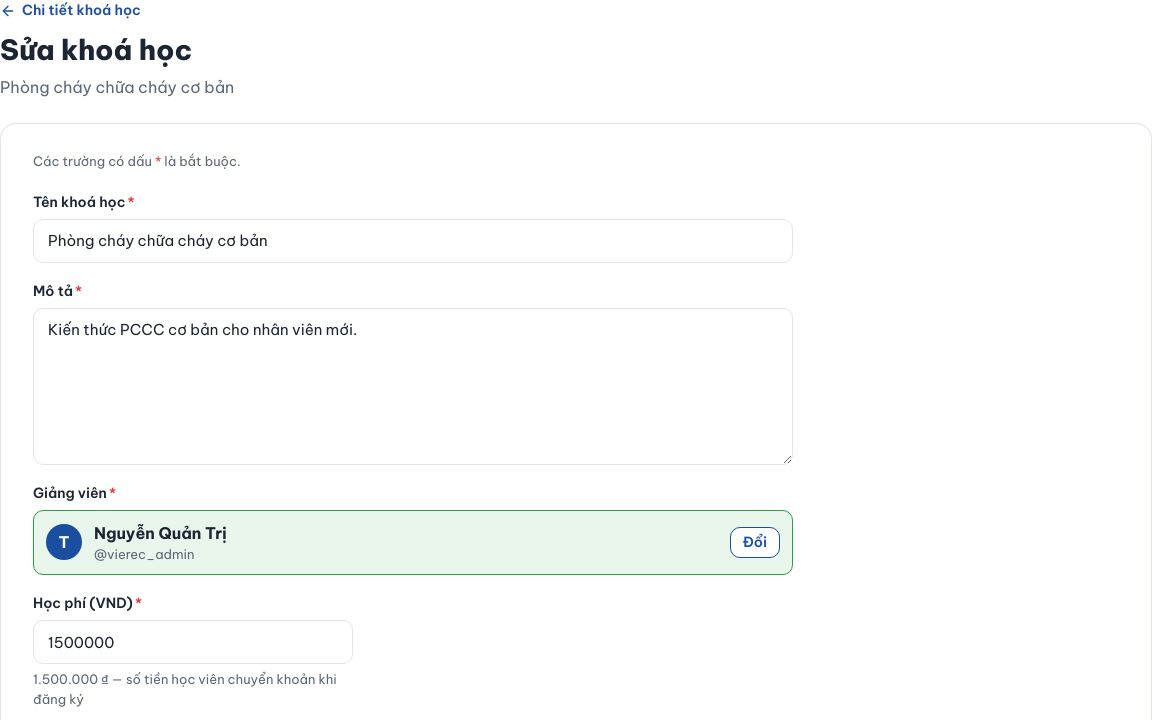
Scenario: CourseEditPage › requires an instructor again after removing the current one
The width and height of the screenshot is (1152, 720).
What coordinates should you click on to do the following:
click the button with aria-label "Đổi giảng viên"
I would click on:
 (755, 542)
Its box is [730,527,780,558].
(page scrolled)
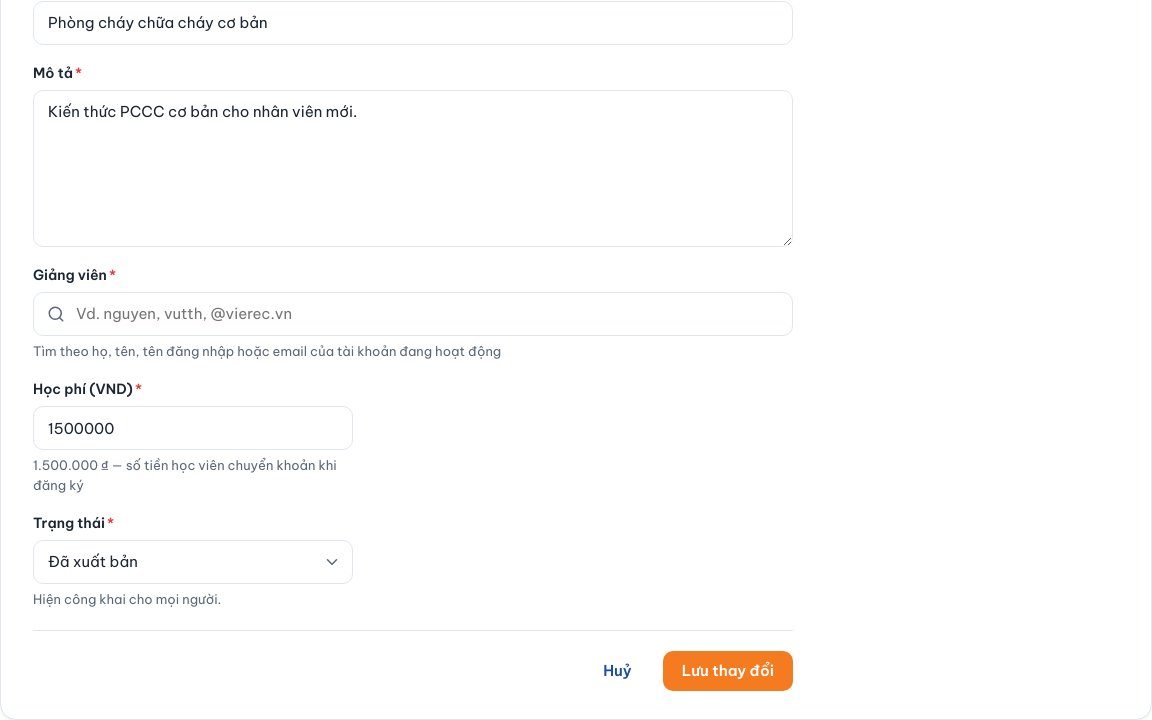
What coordinates should you click on to do the following:
click the button "Lưu thay đổi"
I would click on:
 (728, 670)
Its box is [663,650,793,690].
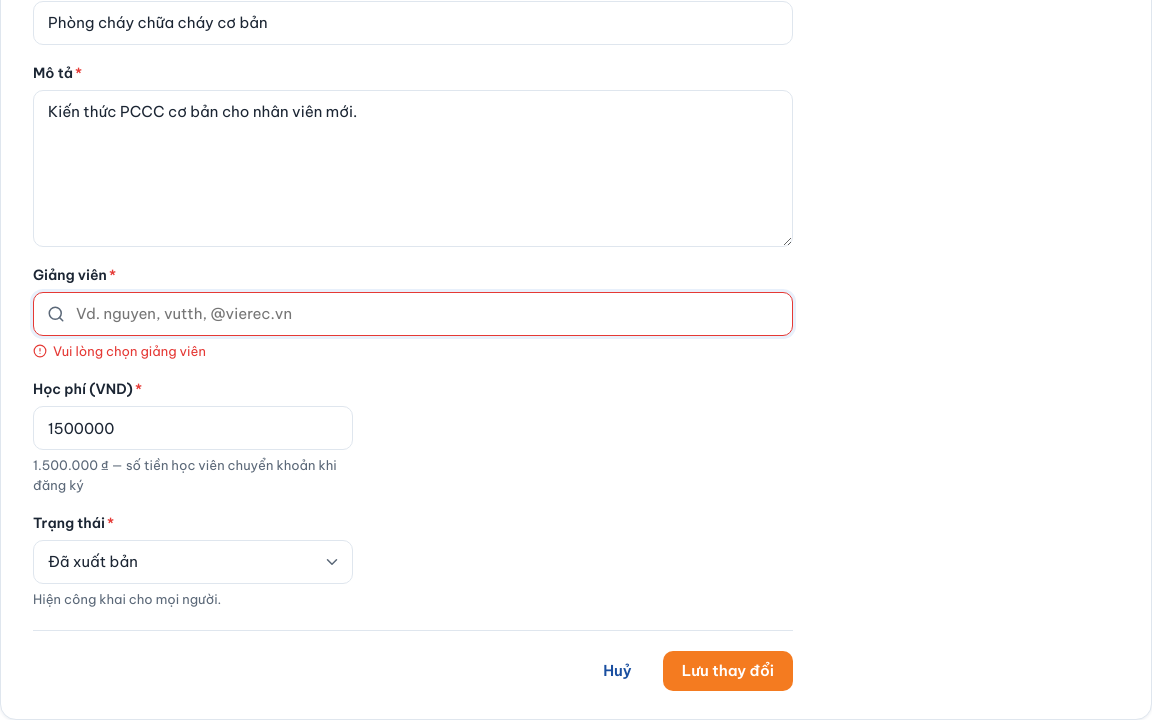
Expected: the text "Vui lòng chọn giảng viên" is shown, [33,342,206,358]
